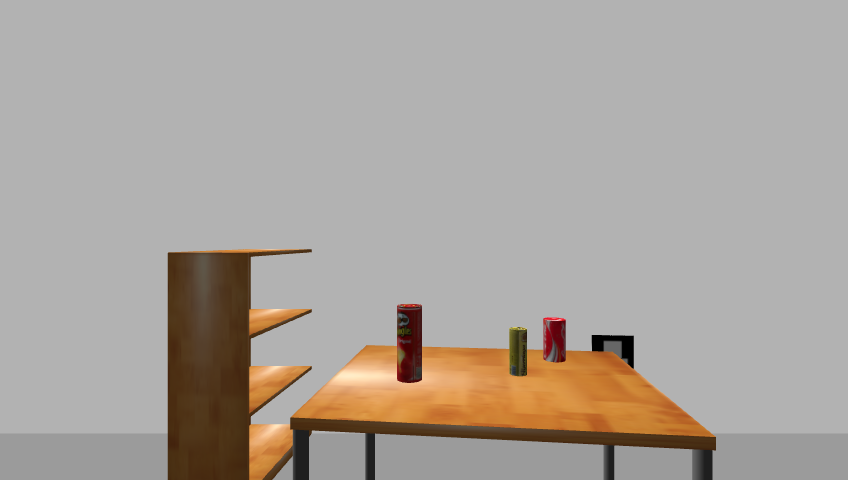aruco marker: (587, 333, 638, 371)
biscuits pack: (508, 327, 527, 377)
bookshelf: (162, 246, 319, 480)
coke can: (542, 317, 568, 364)
dinner table: (285, 344, 722, 480)
pringles can: (395, 303, 424, 385)
